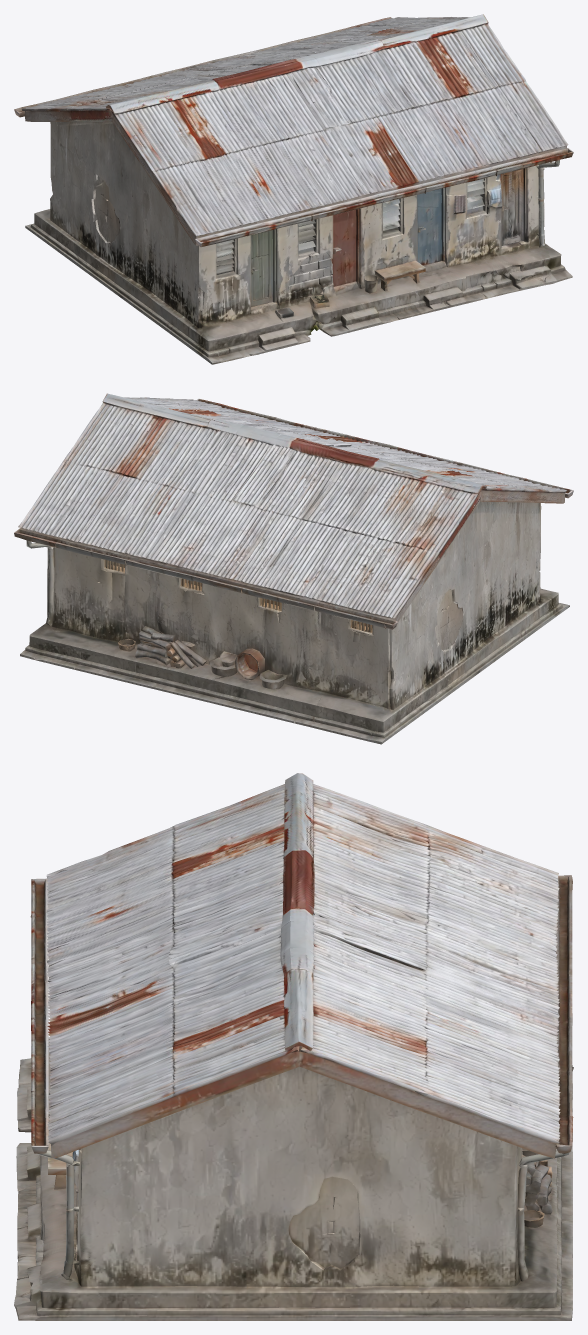
The model's file is line_house.glb.
The picture shows the model from 3 angles, top to bottom: view 1: azimuth 30°, elevation 25°; view 2: azimuth 150°, elevation 25°; view 3: azimuth 270°, elevation 25°; orthographic projection. The views are drawn at different scales.
Visible parts, largest first — view 1: line_house; view 2: line_house; view 3: line_house.
Part boxes in pixels (x1,y1,x2,y2): line_house: (14,14,573,364); line_house: (14,393,573,744); line_house: (14,773,573,1320).
Bounding box in the file's own units: 1.88 × 0.9173 × 1.64.
1 material, 1 textured.
